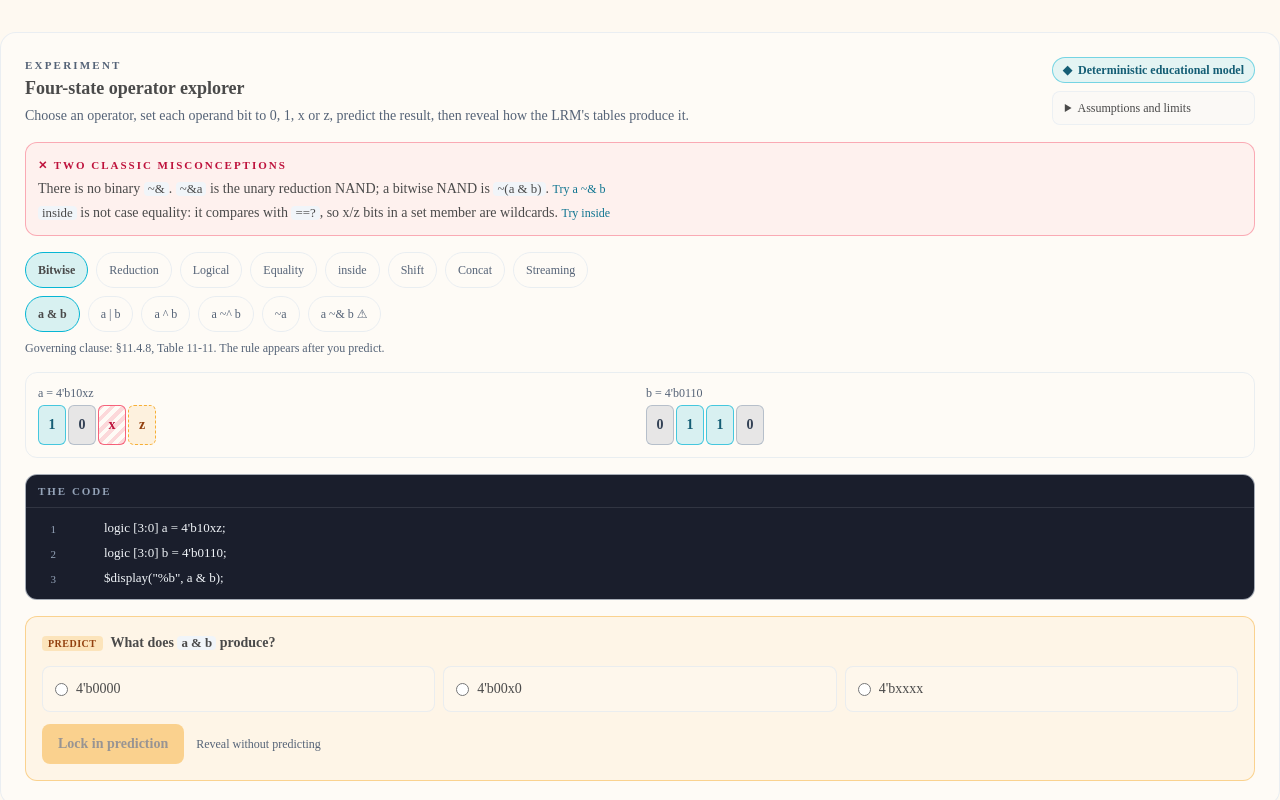
OperatorExplorer › binary ~& is a compile error, not a bitwise NAND
Click the button "Try a ~& b" at {"x": 579, "y": 188}, box [552,180,606,196]
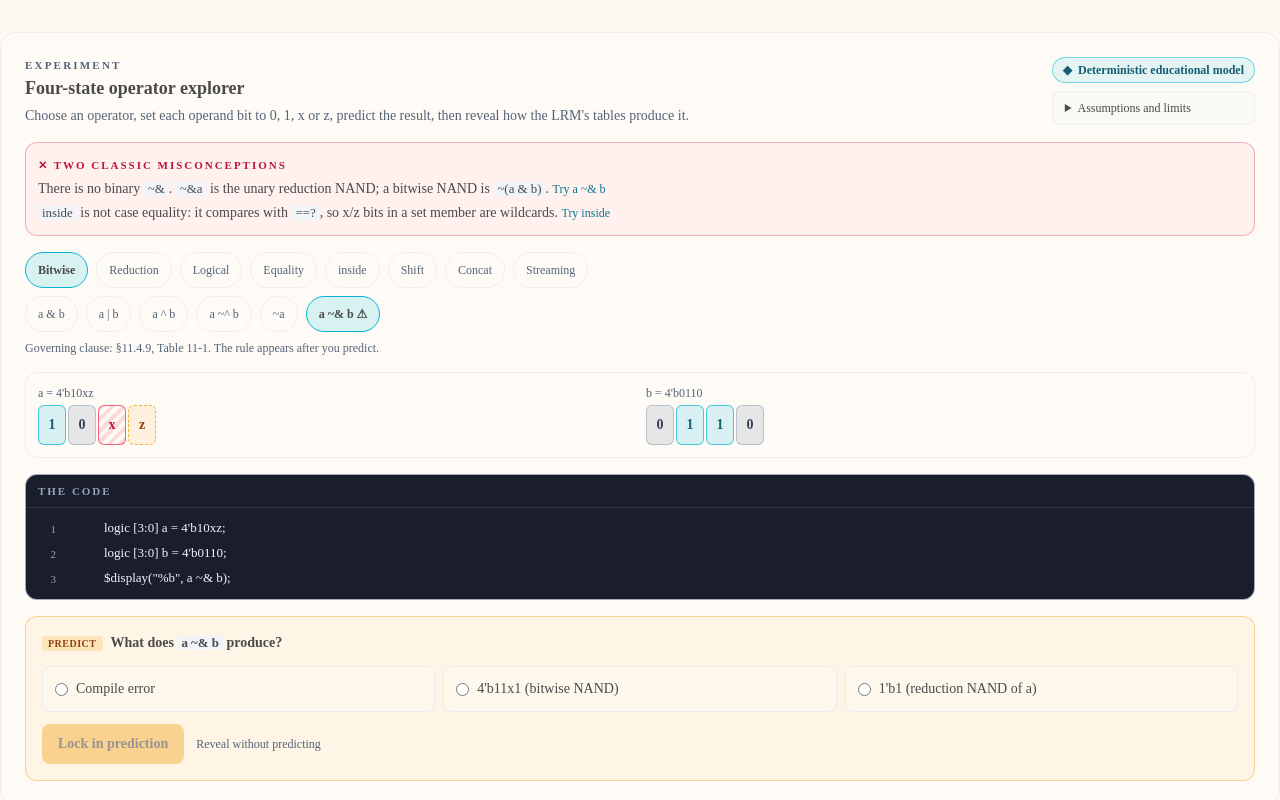
Expected: the text "$display(\"%b\", a ~& b);" is shown, [104,570,231,585]
Click the radio button labelled "4'b11x1 (bitwise NAND)" at {"x": 463, "y": 690}, box [456,683,469,696]
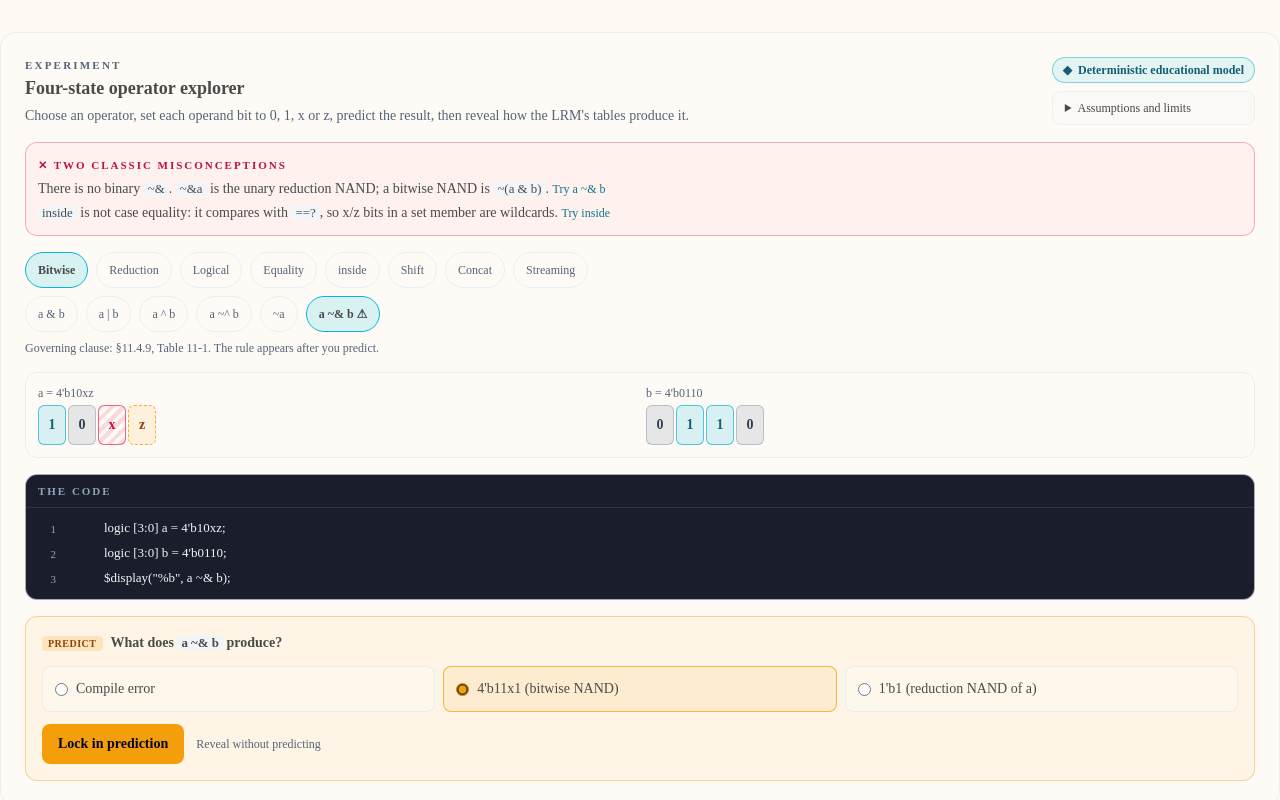
Click the button "Lock in prediction" at {"x": 113, "y": 744}, box [42,724,184,764]
(page scrolled)
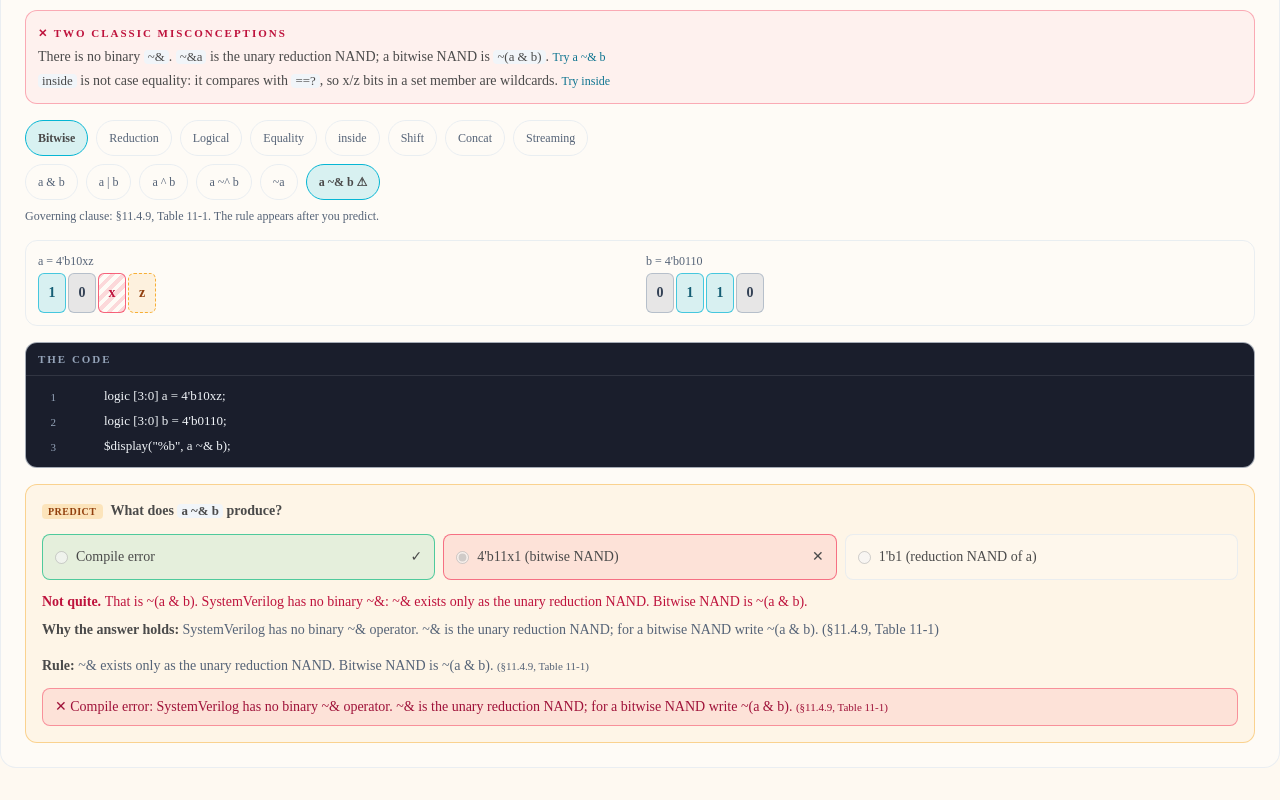
Expected: the text "Not quite." is shown, [42,594,105,609]
Expected: the text "Compile error: SystemVerilog has no binary ~& operator" is shown, [42,688,1238,726]
